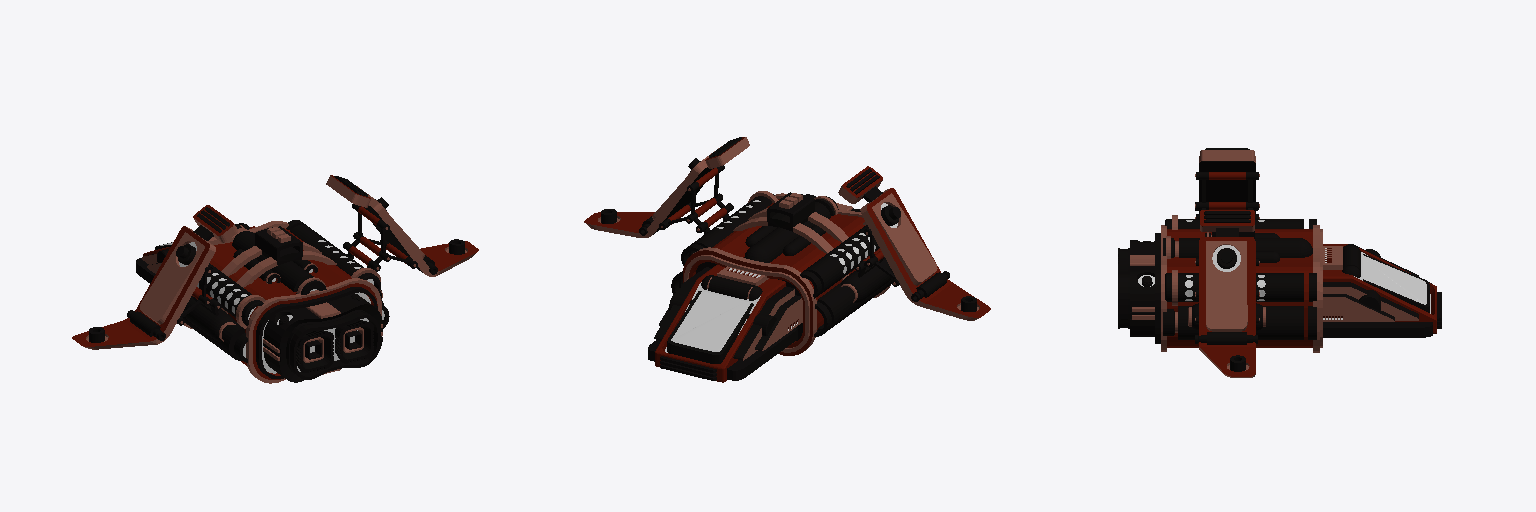
The model's file is defaultShip.obj.
3 views of the same model, side by side, from view 1: azimuth 30°, elevation 25°; view 2: azimuth 150°, elevation 25°; view 3: azimuth 270°, elevation 25° (orthographic).
Visible parts, largest first — view 1: Mesh; view 2: Mesh; view 3: Mesh.
Part boxes in pixels (x1,y1,x2,y2): Mesh: (72, 175, 478, 383); Mesh: (584, 137, 990, 382); Mesh: (1118, 148, 1441, 377).
Size of the model in its own units: 9.64 by 3.54 by 6.81.